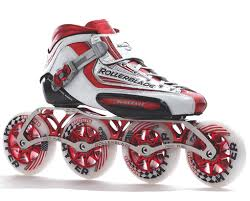roller_blade: (6, 19, 246, 188)
